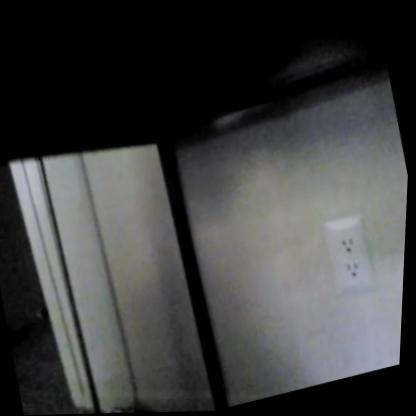OUTLET: (321, 211, 379, 299)
